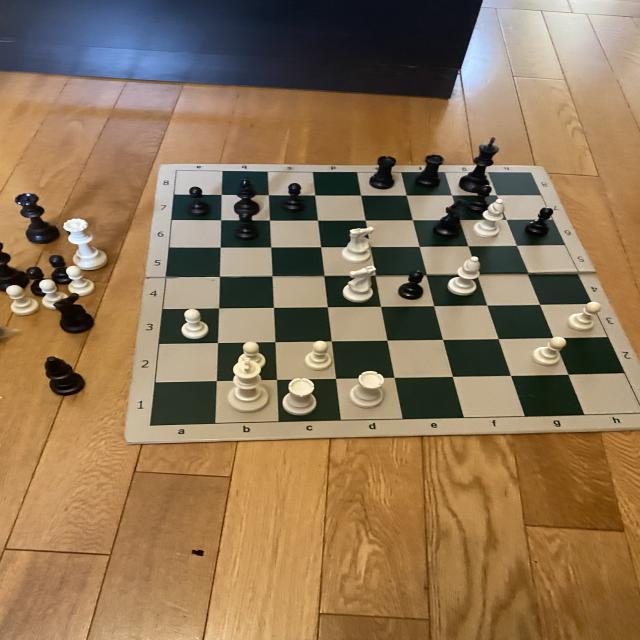Chessboard-Corners: (144, 421, 160, 429), (525, 169, 538, 177), (170, 168, 184, 174), (633, 406, 640, 416)
